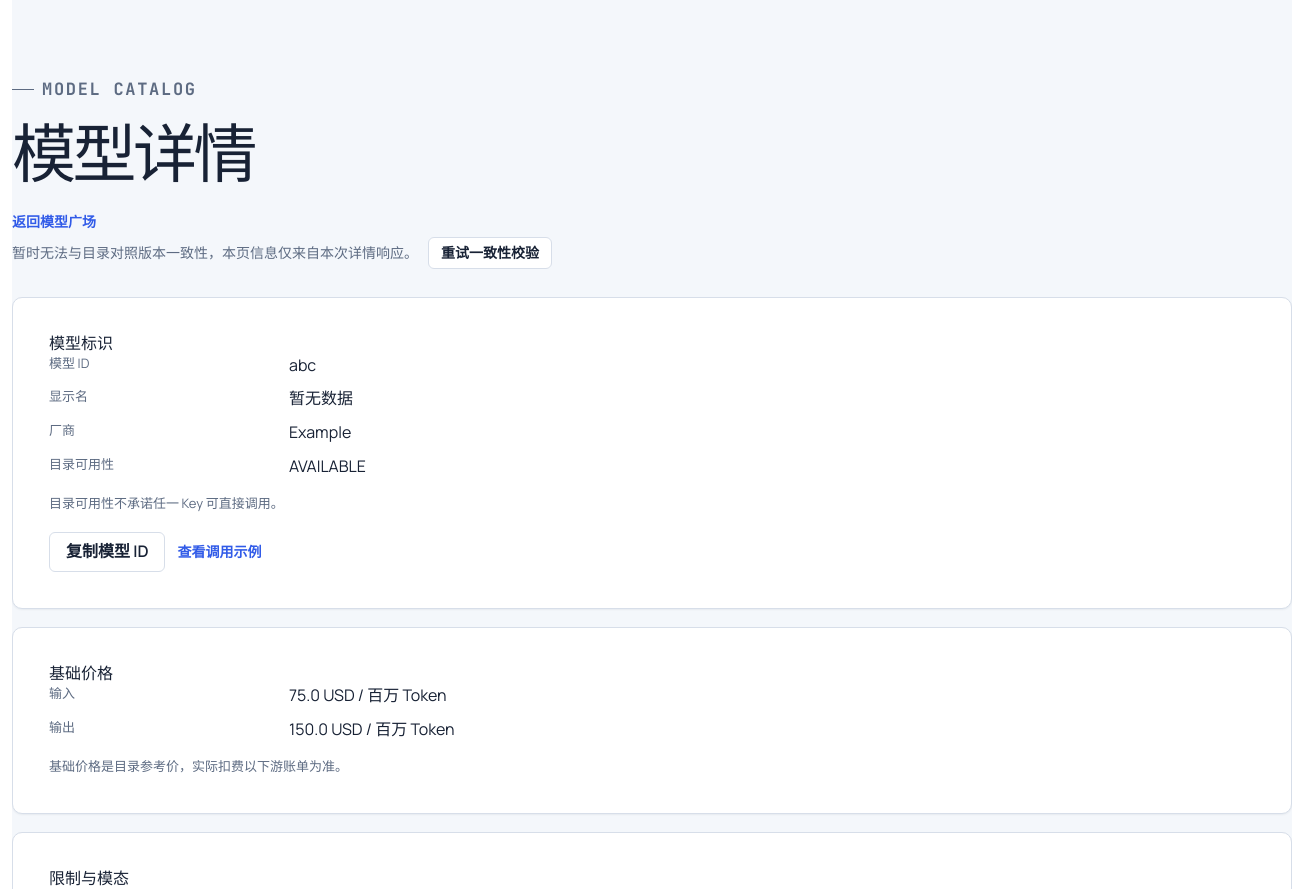
模型详情页 › 持续冲突可手动成对重取并恢复一致，之后停止请求
Expected: the text "abc" is shown, x1=289 y1=354 x2=316 y2=376
What coordinates should you click on to do the following:
click the button "重试一致性校验"
I would click on:
 (490, 253)
Its box is x1=428 y1=237 x2=552 y2=269.
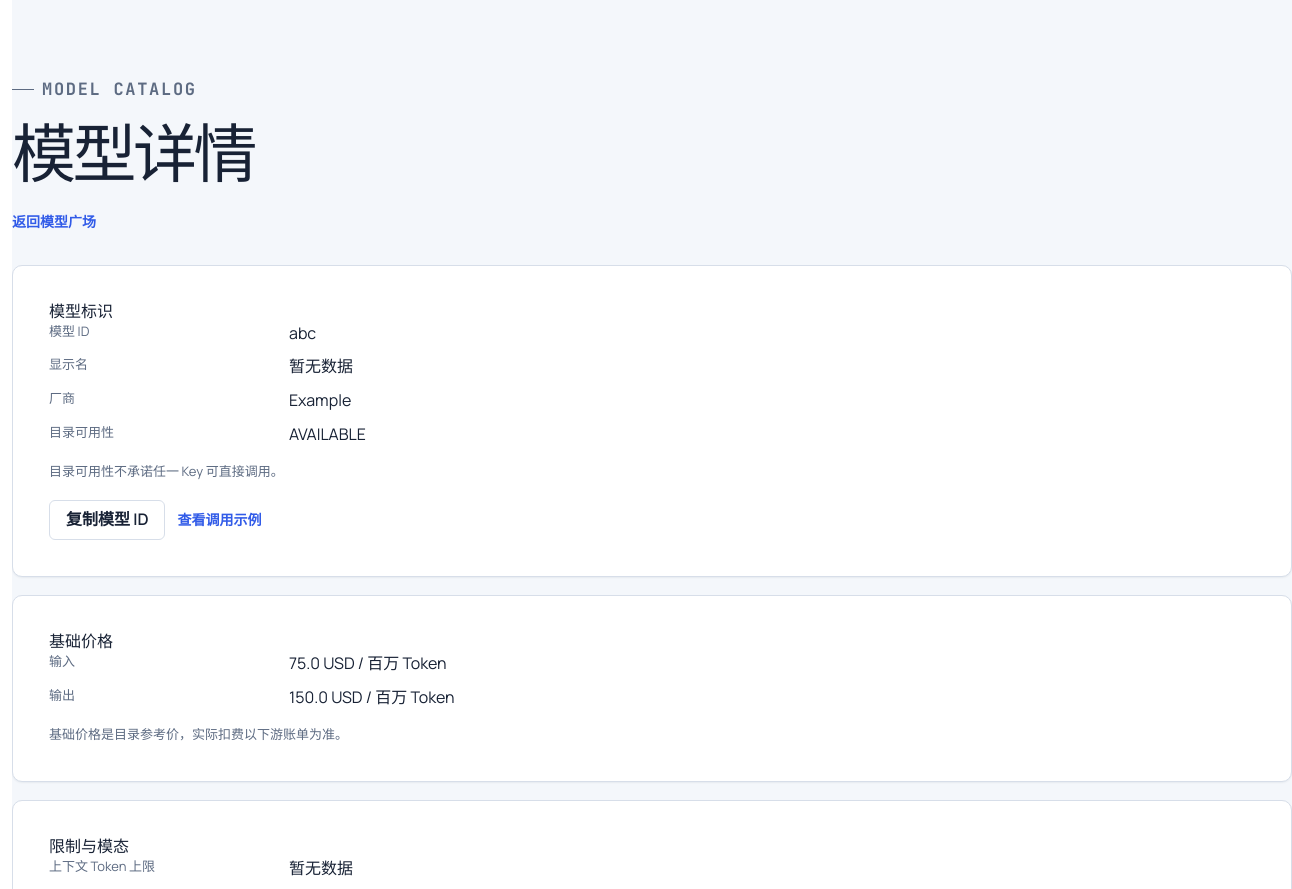
Expected: the text "暂时无法与目录对照" is gone
